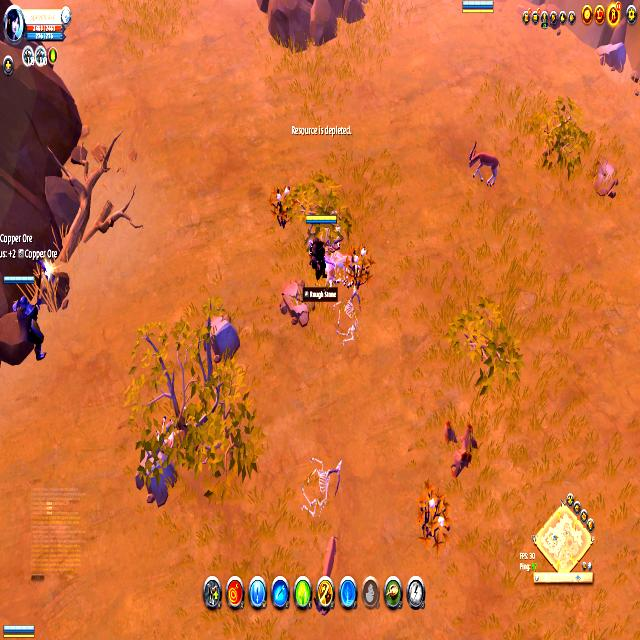hide: (417, 486, 452, 544), (346, 243, 372, 284), (272, 182, 294, 227)
mob: (325, 238, 348, 290)
ore: (467, 140, 500, 188), (319, 530, 338, 578)
red: (4, 271, 47, 362), (304, 211, 335, 281), (2, 621, 37, 636), (460, 1, 494, 14)
